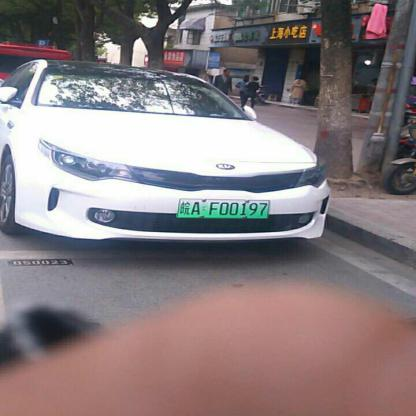lp: (177, 198, 269, 218)
